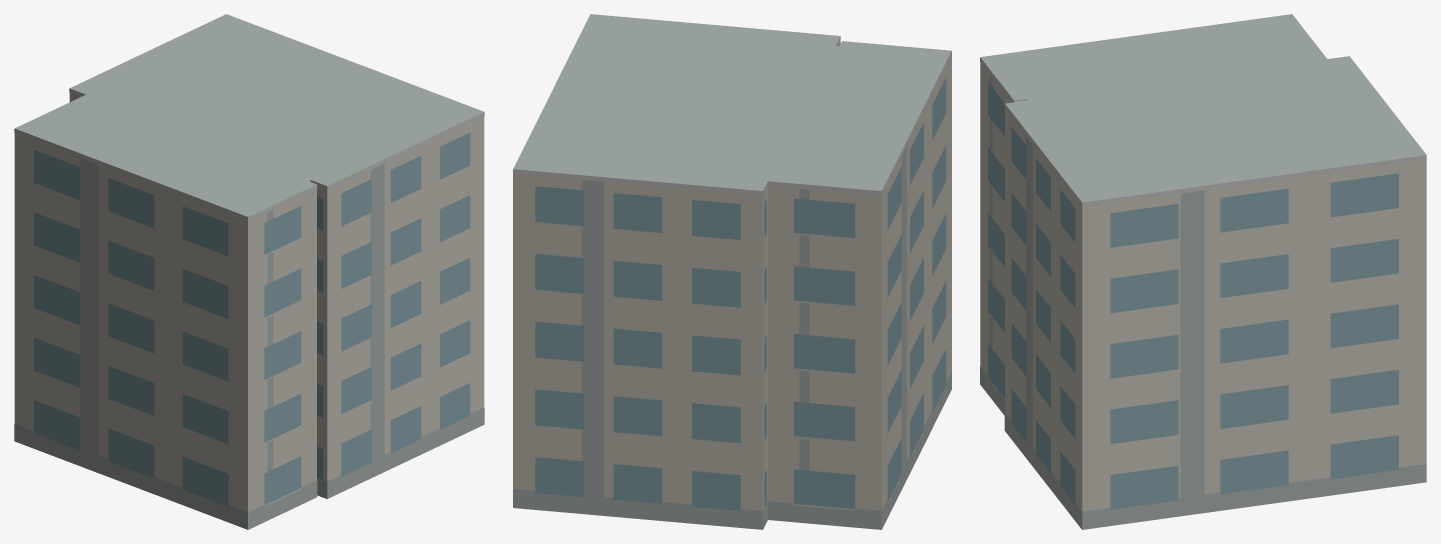
Rendered from survey-upis-32906984.glb.
3 renders of one model, left to right at view 1: azimuth 30°, elevation 25°; view 2: azimuth 150°, elevation 25°; view 3: azimuth 270°, elevation 25°, orthographic. The views are drawn at different scales.
Visible parts, largest first — view 1: survey-upis-32906984.tmp; view 2: survey-upis-32906984.tmp; view 3: survey-upis-32906984.tmp.
Part boxes in pixels (<box>): survey-upis-32906984.tmp: <box>14,14,484,529</box>; survey-upis-32906984.tmp: <box>513,14,951,529</box>; survey-upis-32906984.tmp: <box>980,14,1426,529</box>.
Bounding box in the file's own units: 21.14 × 17.1 × 21.16.
